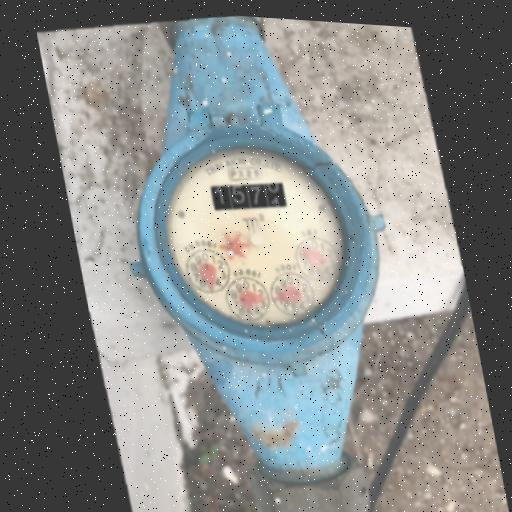0: (265, 182, 288, 208)
1: (210, 185, 233, 211)
5: (229, 184, 251, 210)
7: (247, 183, 268, 209)
border_water_meter_number: (209, 177, 288, 216)
